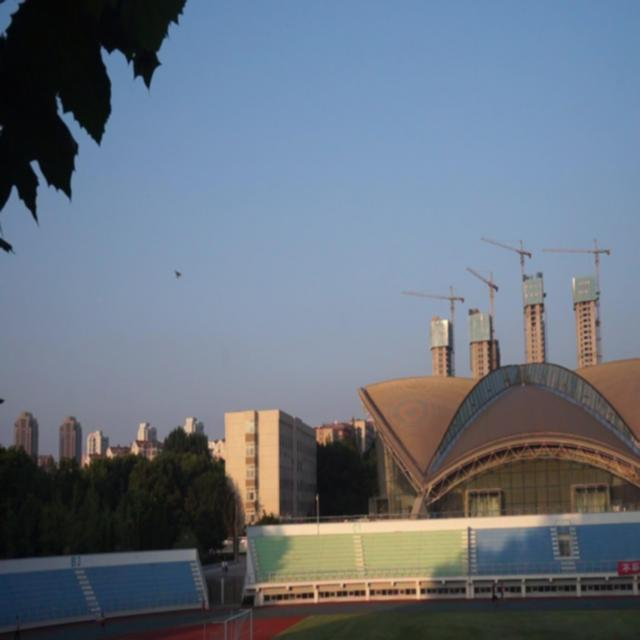UAV: (174, 269, 183, 279)
